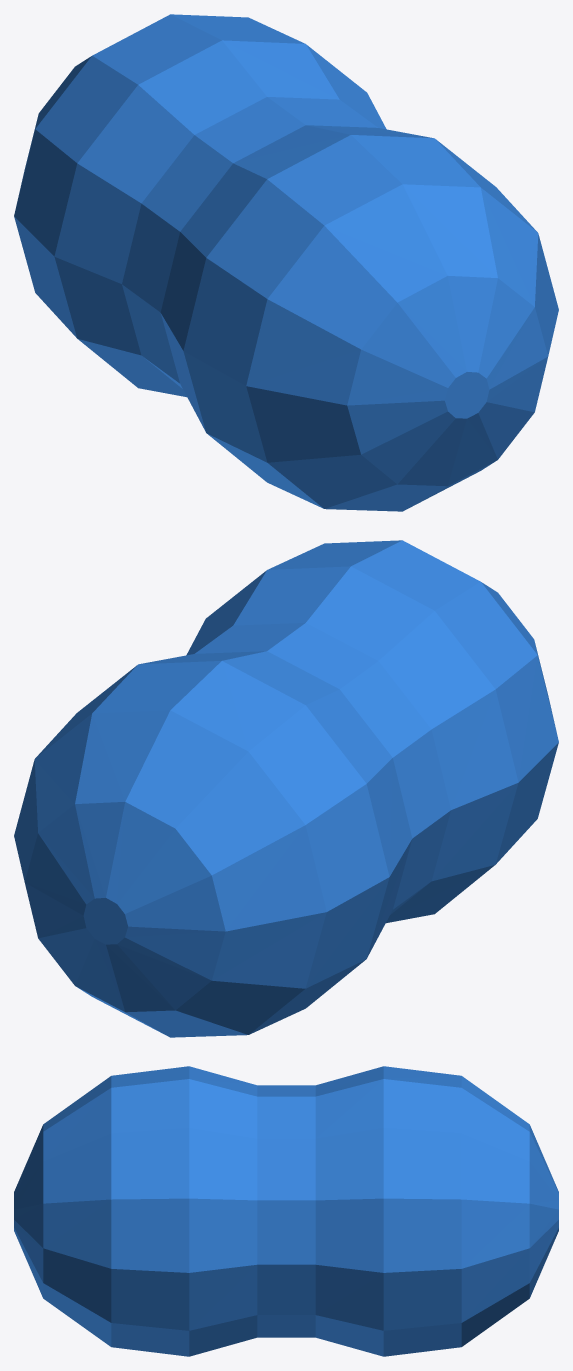
Rendered from body.FBX.
3 views of the same model, one above another, from view 1: azimuth 30°, elevation 25°; view 2: azimuth 150°, elevation 25°; view 3: azimuth 270°, elevation 25° (orthographic). The views are drawn at different scales.
Visible parts, largest first — view 1: VIFS001; view 2: VIFS001; view 3: VIFS001.
Boxes of the visible parts, <box> form: VIFS001: <box>14,14,558,511</box>; VIFS001: <box>14,540,558,1037</box>; VIFS001: <box>14,1066,558,1356</box>.
Size of the model in its own units: 0.6 by 0.6 by 1.12.
